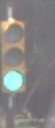Green: (3, 14, 31, 106)
